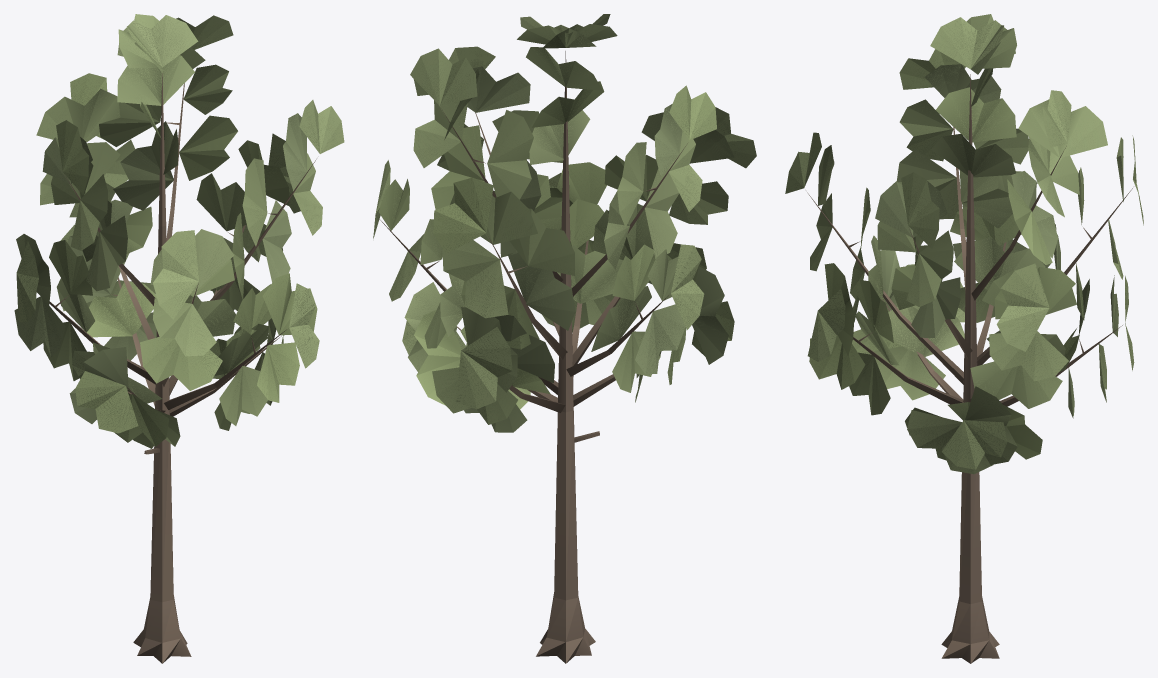
The model's file is ginkgo.glb.
3 views of the same model, side by side, from view 1: azimuth 30°, elevation 25°; view 2: azimuth 150°, elevation 25°; view 3: azimuth 270°, elevation 25° (orthographic). The views are drawn at different scales.
Parts seen in each view (by area): view 1: ginkgo; view 2: ginkgo; view 3: ginkgo.
Part boxes in pixels (x1,y1,x2,y2): ginkgo: [14, 14, 344, 663]; ginkgo: [373, 14, 756, 663]; ginkgo: [785, 14, 1143, 663].
Bounding box in the file's own units: 5.85 × 11.74 × 6.14.
